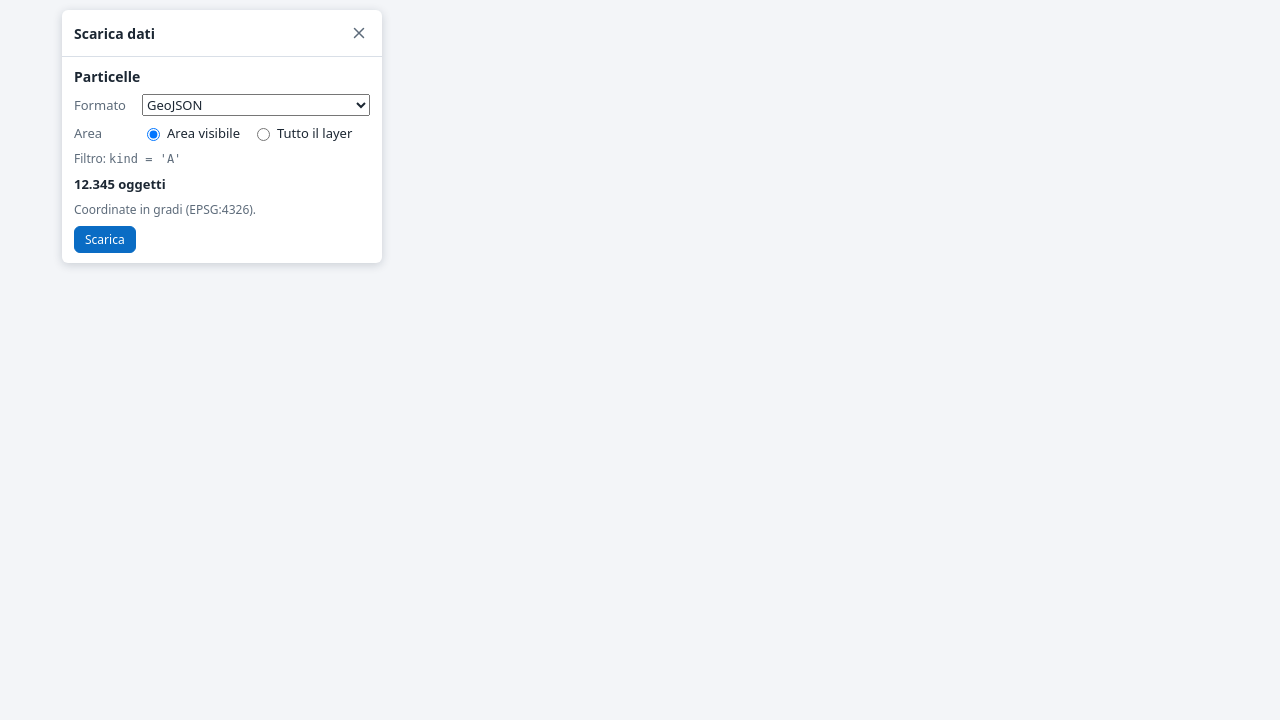
it: DownloadPanel: vettoriale › mostra il conteggio nell'area visibile e scarica GeoJSON con filtro e area
expect the text "12.345 oggetti" is shown: met, box [74, 175, 166, 193]
expect the text "kind = 'A'" is shown: met, box [109, 152, 181, 166]
Click the button "Scarica" at (105, 240), box [74, 226, 136, 253]
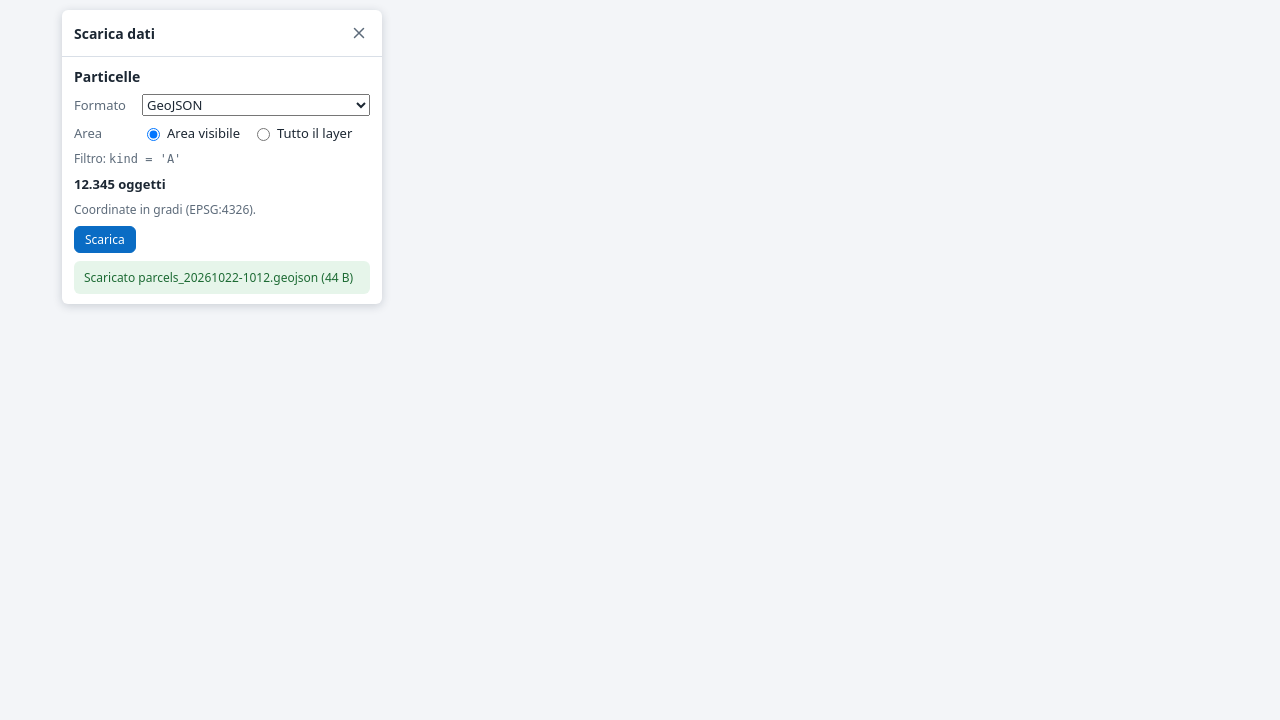
expect the text "Scaricato parcels_20261022-1012.geojson (44 B)" is shown: met, box [74, 261, 370, 294]
